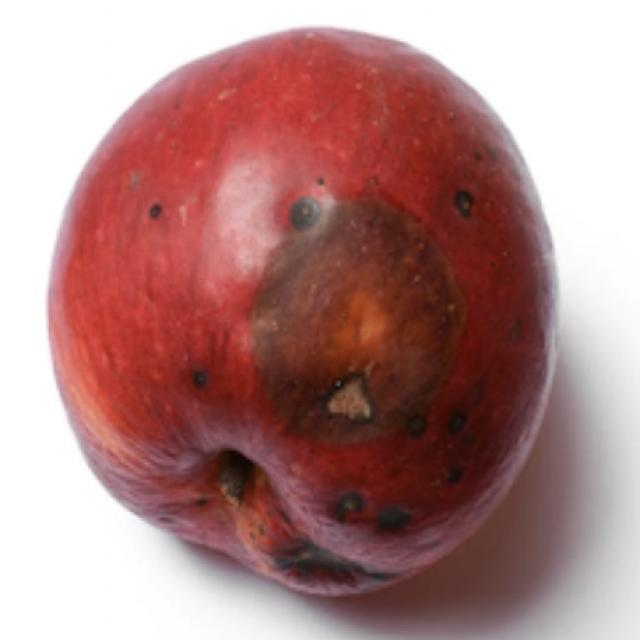Rotten: (60, 32, 542, 593)
